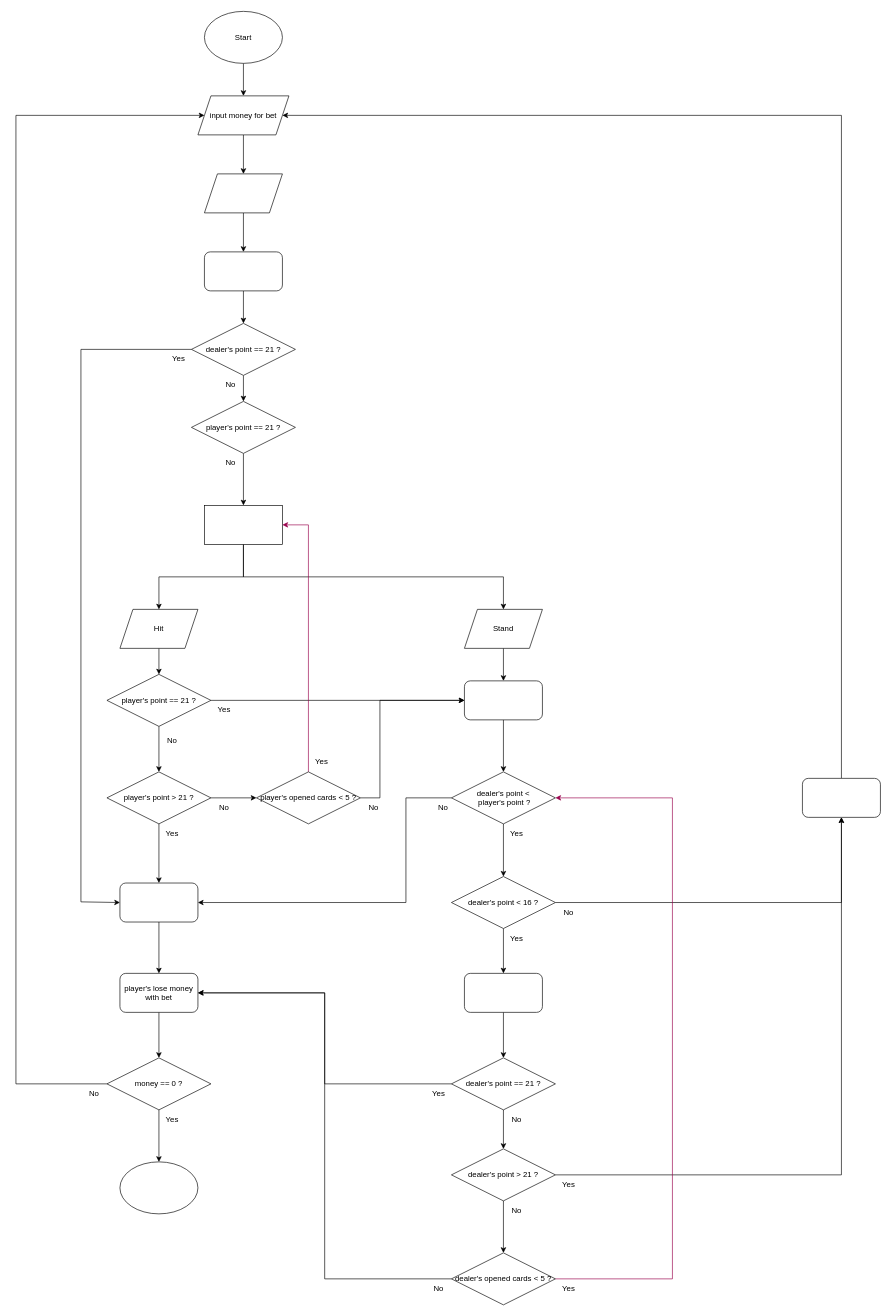
The diagram is 892 pixels wide and 1316 high, and some of its shapes have lost their labels. Here are the shapes that lost their labels. From the top down, the centre of each, then its label:
At [243,193]: "New Game".
At [243,271]: "dealer and player receive 2 card each".
At [243,524]: "decision between hit and stand".
At [503,700]: "dealer opens a card".
At [841,797]: "player earn money equal to bet".
At [158,902]: "dealer open a card one time".
At [503,992]: "dealer adds up".
At [158,1187]: "End".
